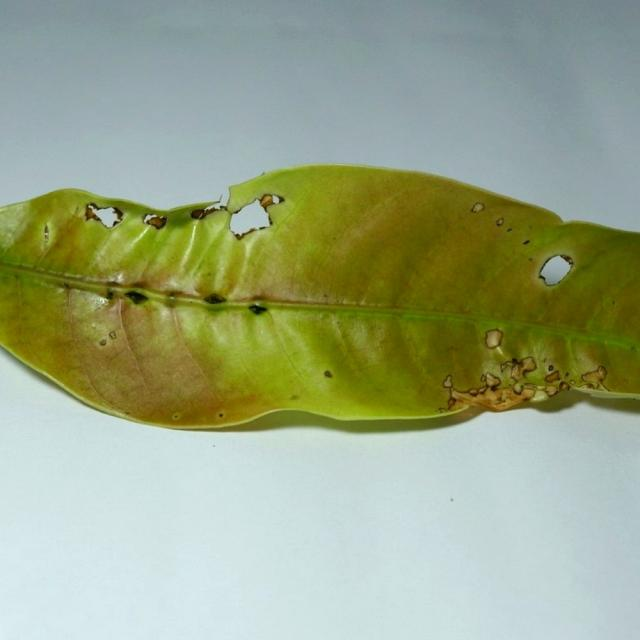Anthracnose: (535, 253, 578, 291), (229, 201, 269, 236), (85, 203, 123, 228), (484, 328, 503, 349), (124, 290, 148, 304), (259, 193, 279, 208), (203, 293, 227, 305), (146, 216, 166, 229), (247, 304, 268, 316), (471, 202, 485, 213), (171, 412, 182, 421), (323, 370, 333, 378), (495, 218, 504, 226), (44, 224, 49, 237)
Mango: (0, 165, 639, 436)
